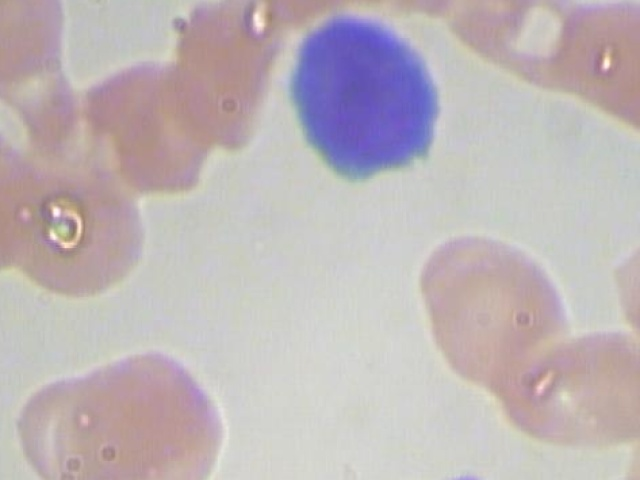RBC: (402, 226, 582, 399), (34, 339, 244, 480), (11, 167, 155, 303), (494, 320, 640, 449), (542, 0, 640, 114), (599, 9, 640, 143), (607, 225, 640, 367)
WBC: (269, 9, 455, 204)
